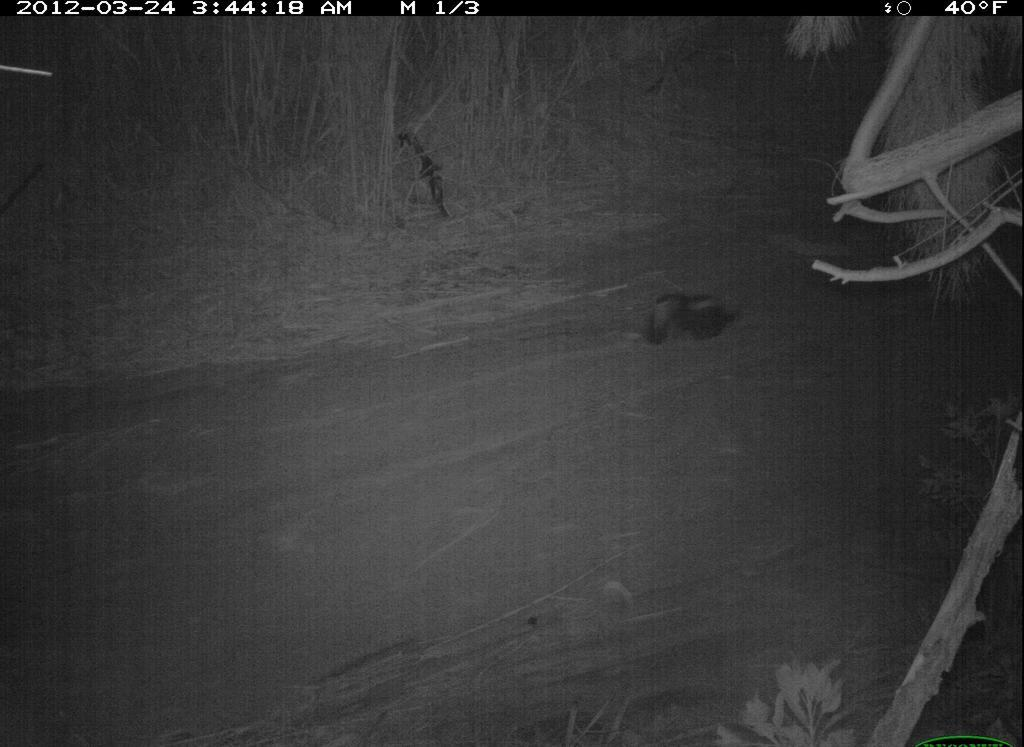skunk: (635, 283, 744, 353)
